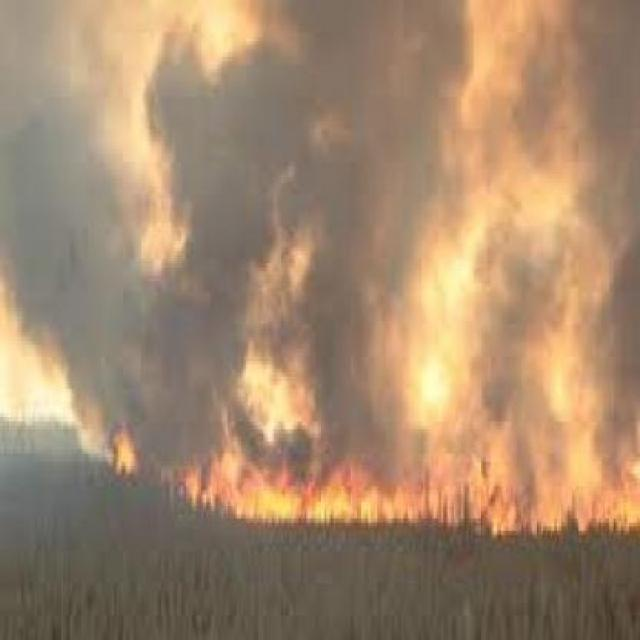Fire: (126, 429, 640, 565)
Smoke: (6, 0, 640, 439)
